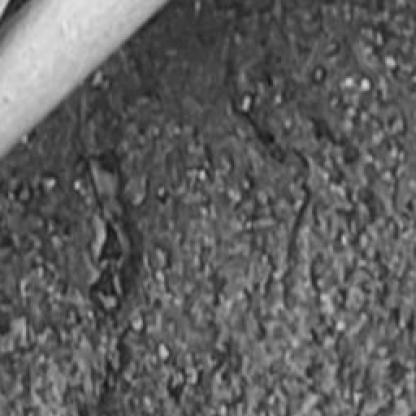PVC: (1, 2, 172, 169)
